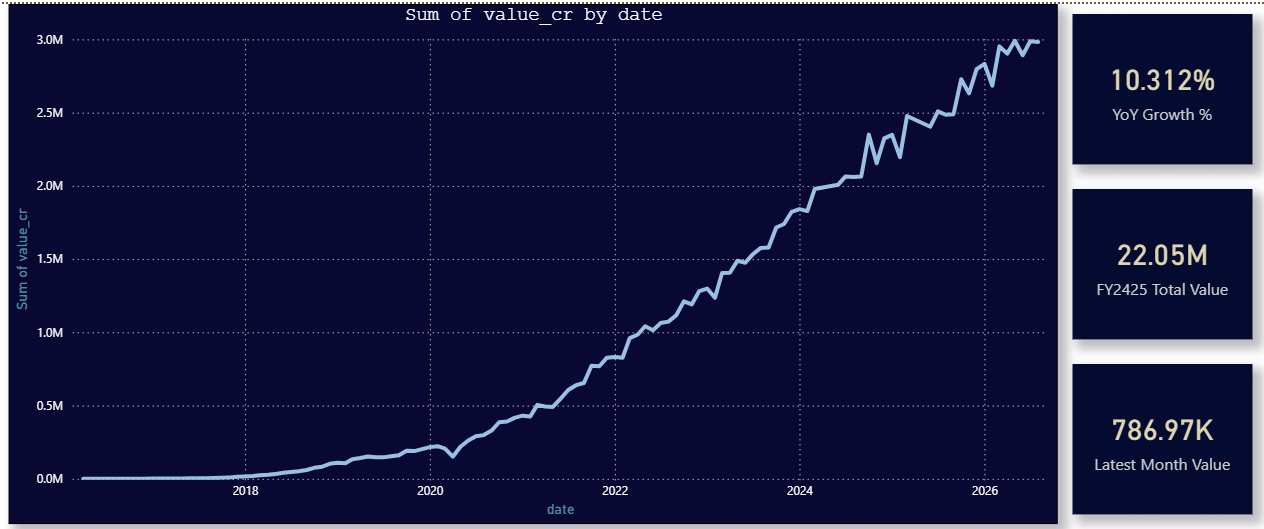

The dashboard page shown, as its layout file describes it:
{"tool":"powerbi","page":{"name":"Adoption_trend","canvas":[1280,720],"ordinal":1},"visuals":[{"type":"lineChart","fields":{"Y":["Sum(upi_monthly_master_2016_2026.value_cr)"],"Category":["upi_monthly_master_2016_2026.date"]},"box":[17.4,27.4,1053.6,592.1],"z":0},{"type":"card","fields":{"Values":["upi_monthly_master_2016_2026.YoY Growth %"]},"box":[1089.7,39.8,180.4,150.5],"z":1000},{"type":"card","fields":{"Values":["upi_monthly_master_2016_2026.Latest Month Value"]},"box":[1088.5,408,180.4,150.5],"z":2000},{"type":"card","fields":{"Values":["upi_monthly_master_2016_2026.FY2425 Total Value"]},"box":[1088.5,218.9,180.4,150.5],"z":3000}]}

Visuals, with their boxes on the page's 1280x720 design canvas (x1, y1, x2, y2). These are canvas units, not pixel positions in the 1264x529 screenshot, which may show the page scaled, cropped or inside an application window:
lineChart - Sum(upi_monthly_master_2016_2026.value_cr) x upi_monthly_master_2016_2026.date: box=[17, 27, 1071, 620]
card - upi_monthly_master_2016_2026.YoY Growth %: box=[1090, 40, 1270, 190]
card - upi_monthly_master_2016_2026.Latest Month Value: box=[1088, 408, 1269, 558]
card - upi_monthly_master_2016_2026.FY2425 Total Value: box=[1088, 219, 1269, 369]
